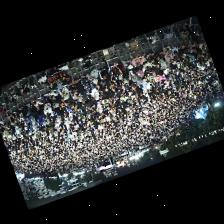person: (98, 55, 110, 79), (41, 96, 51, 117), (71, 81, 82, 100), (26, 103, 40, 117), (111, 62, 124, 77), (46, 89, 60, 102), (68, 79, 80, 94), (58, 101, 69, 117), (131, 54, 143, 68), (85, 68, 97, 82), (144, 51, 156, 63), (52, 102, 60, 120), (57, 86, 68, 99), (87, 94, 96, 109), (30, 98, 42, 109), (80, 99, 90, 112), (61, 94, 71, 107), (80, 75, 90, 87), (41, 113, 49, 128), (110, 72, 119, 85), (90, 85, 98, 99), (24, 108, 30, 126), (127, 68, 135, 81), (145, 66, 155, 76), (163, 54, 174, 63), (100, 80, 109, 91), (91, 77, 100, 88), (177, 45, 188, 54), (170, 45, 179, 56), (158, 58, 166, 70), (19, 106, 27, 117), (135, 75, 142, 87), (157, 75, 166, 84), (118, 75, 126, 85), (106, 91, 114, 101), (122, 60, 132, 68), (29, 115, 35, 128), (146, 75, 155, 83), (180, 53, 189, 61), (1, 116, 9, 125), (143, 62, 151, 71), (82, 85, 90, 94), (109, 81, 116, 91), (7, 113, 13, 124), (96, 101, 102, 112), (81, 91, 86, 104), (12, 109, 19, 118), (98, 87, 105, 96), (186, 41, 191, 52), (152, 61, 159, 67), (0, 120, 5, 126)
